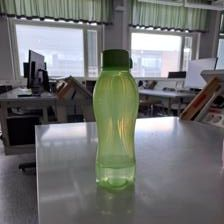bottle: (92, 47, 141, 190)
